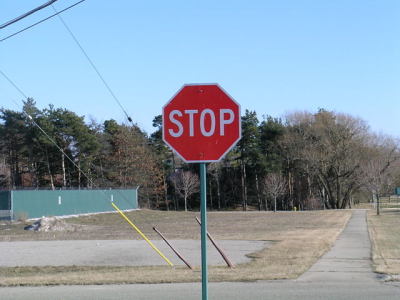stop: (166, 88, 238, 154)
